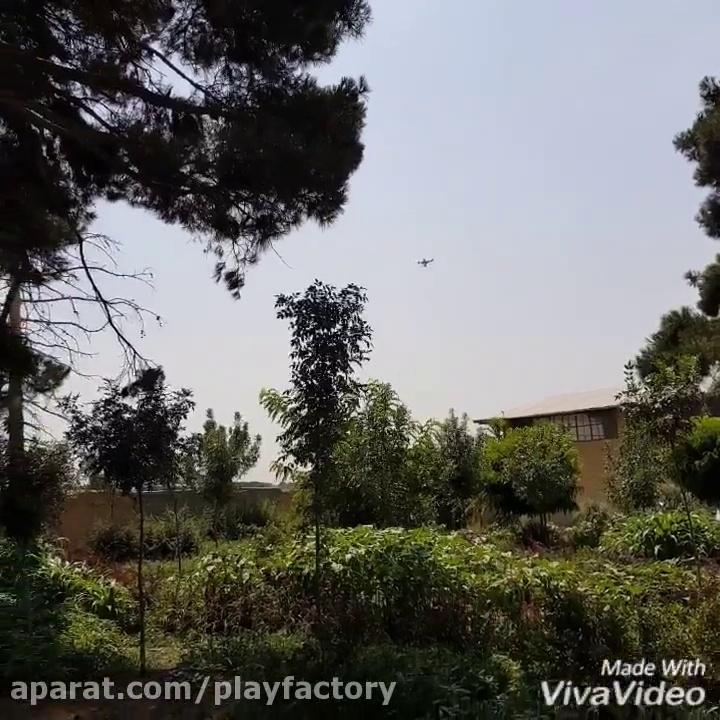drone: (413, 257, 435, 271)
